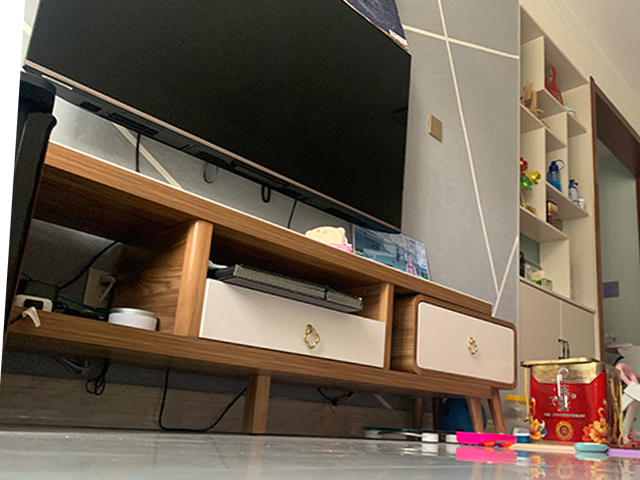cabinet: (10, 136, 517, 437)
wire: (8, 245, 115, 332), (158, 369, 246, 433), (50, 350, 115, 397)
